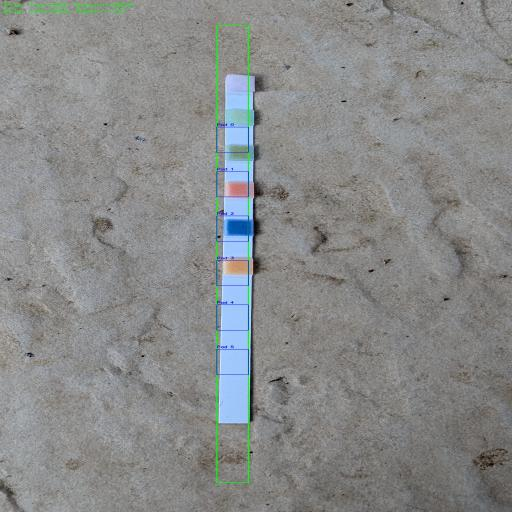strip: (219, 75, 254, 423)
